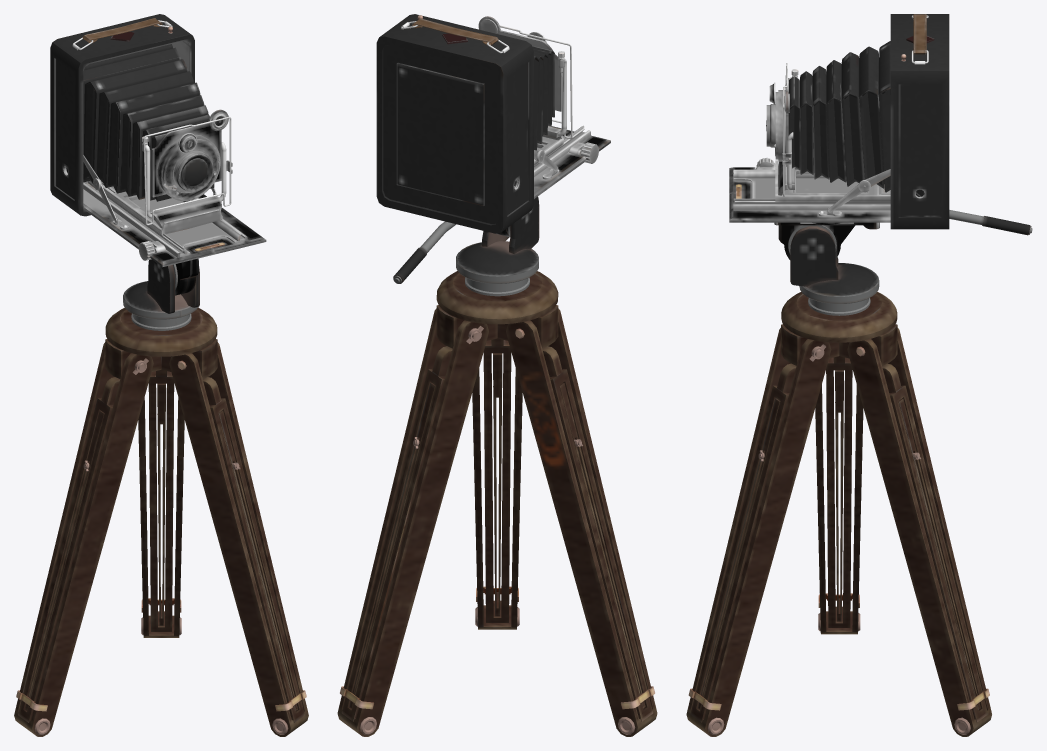
File: AntiqueCamera.glb
3 views of the same model, side by side, from view 1: azimuth 30°, elevation 25°; view 2: azimuth 150°, elevation 25°; view 3: azimuth 270°, elevation 25° (orthographic). The views are drawn at different scales.
Visible parts, largest first — view 1: tripod, camera; view 2: tripod, camera; view 3: tripod, camera.
Boxes of the visible parts, box(x1,y1,x2,y2) form: tripod: box(14, 258, 308, 736); camera: box(50, 14, 266, 266); tripod: box(337, 196, 657, 736); camera: box(376, 14, 610, 233); tripod: box(686, 210, 1032, 736); camera: box(729, 14, 949, 229).
Bounding box in the file's own units: 2.6 × 7.21 × 3.39.
Materials: 2 (2 with a texture image).
